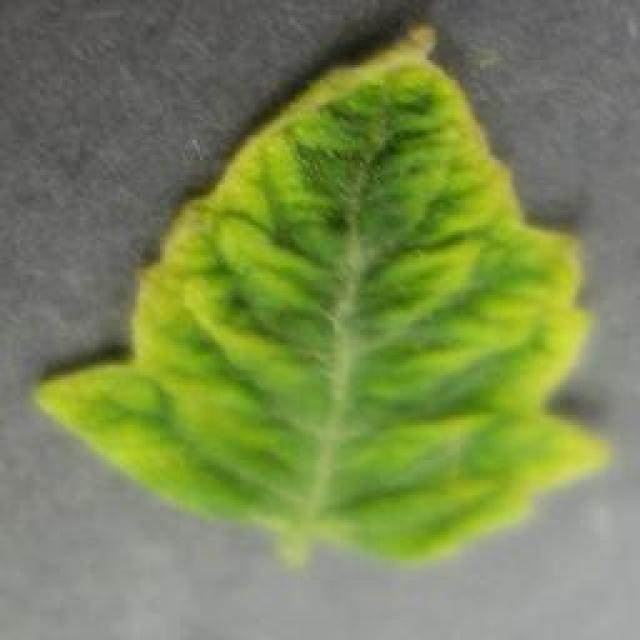Tomato yellow virus leaf: (31, 21, 614, 564)
